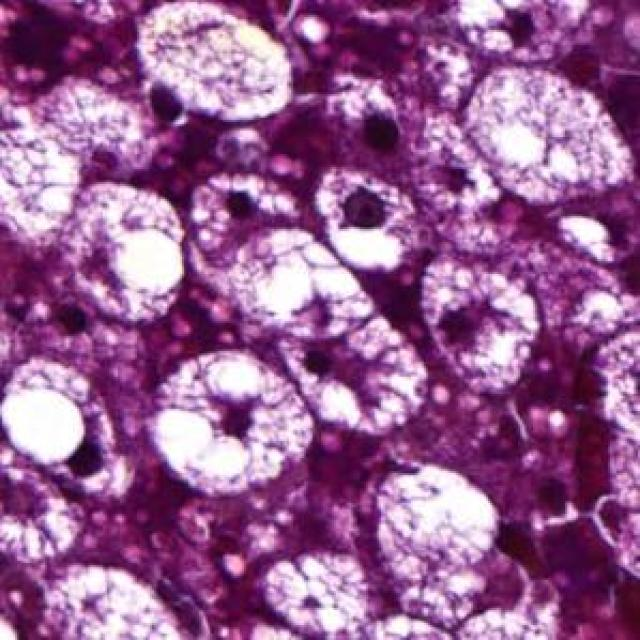ballooning: (152, 342, 317, 499), (132, 0, 297, 128), (413, 255, 548, 400), (364, 460, 505, 574), (308, 163, 430, 280)
